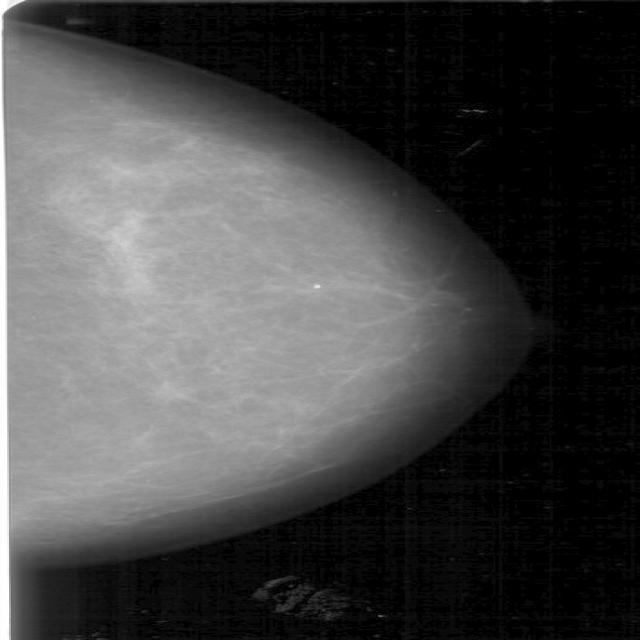tumour: (150, 379, 190, 401)
